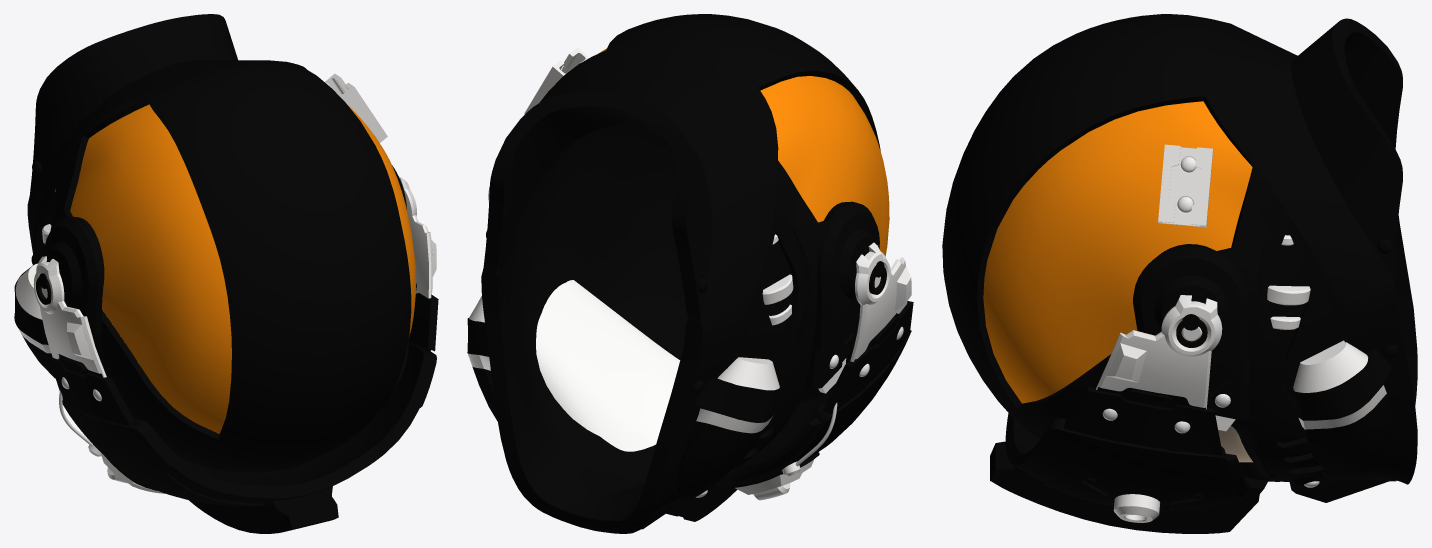
The model's file is helmet-transformed.glb.
3 views of the same model, side by side, from view 1: azimuth 30°, elevation 25°; view 2: azimuth 150°, elevation 25°; view 3: azimuth 270°, elevation 25° (orthographic). The views are drawn at different scales.
Parts seen in each view (by area): view 1: helmet (1), visor (1); view 2: helmet (1), Body3, visor (1); view 3: helmet (1), visor (1), Body3.
Part boxes in pixels (box(x1,y1,x2,y2)): helmet (1): box(14, 14, 416, 472); visor (1): box(33, 176, 438, 533); helmet (1): box(467, 14, 889, 533); Body3: box(536, 280, 834, 451); visor (1): box(488, 185, 913, 521); helmet (1): box(942, 14, 1417, 502); visor (1): box(990, 295, 1267, 533); Body3: box(1218, 421, 1272, 479).
Bounding box in the file's own units: 25.67 × 29.61 × 26.11.
